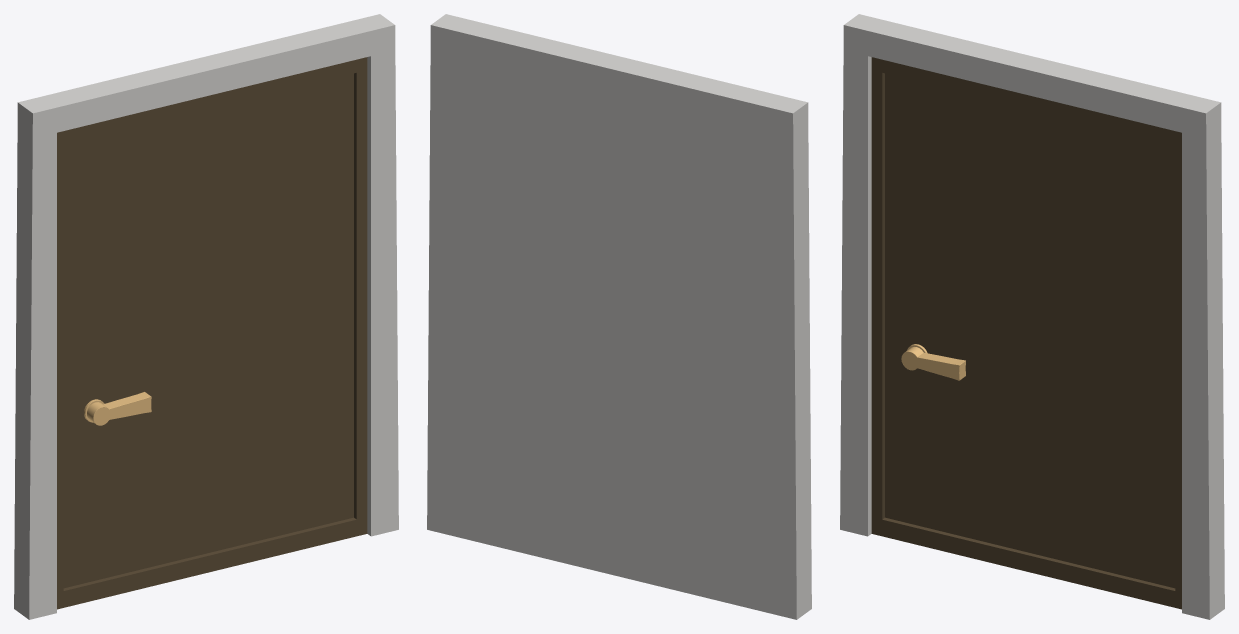
Rendered from door.fbx.
3 views of the same model, side by side, from view 1: azimuth 30°, elevation 25°; view 2: azimuth 150°, elevation 25°; view 3: azimuth 330°, elevation 25° (orthographic).
Parts seen in each view (by area): view 1: door3; view 2: door3; view 3: door3.
Part boxes in pixels (bbox=[...]): door3: bbox=[14, 14, 398, 619]; door3: bbox=[427, 14, 811, 619]; door3: bbox=[840, 14, 1224, 619].
Bounding box in the file's own units: 182 × 238 × 14.16.
